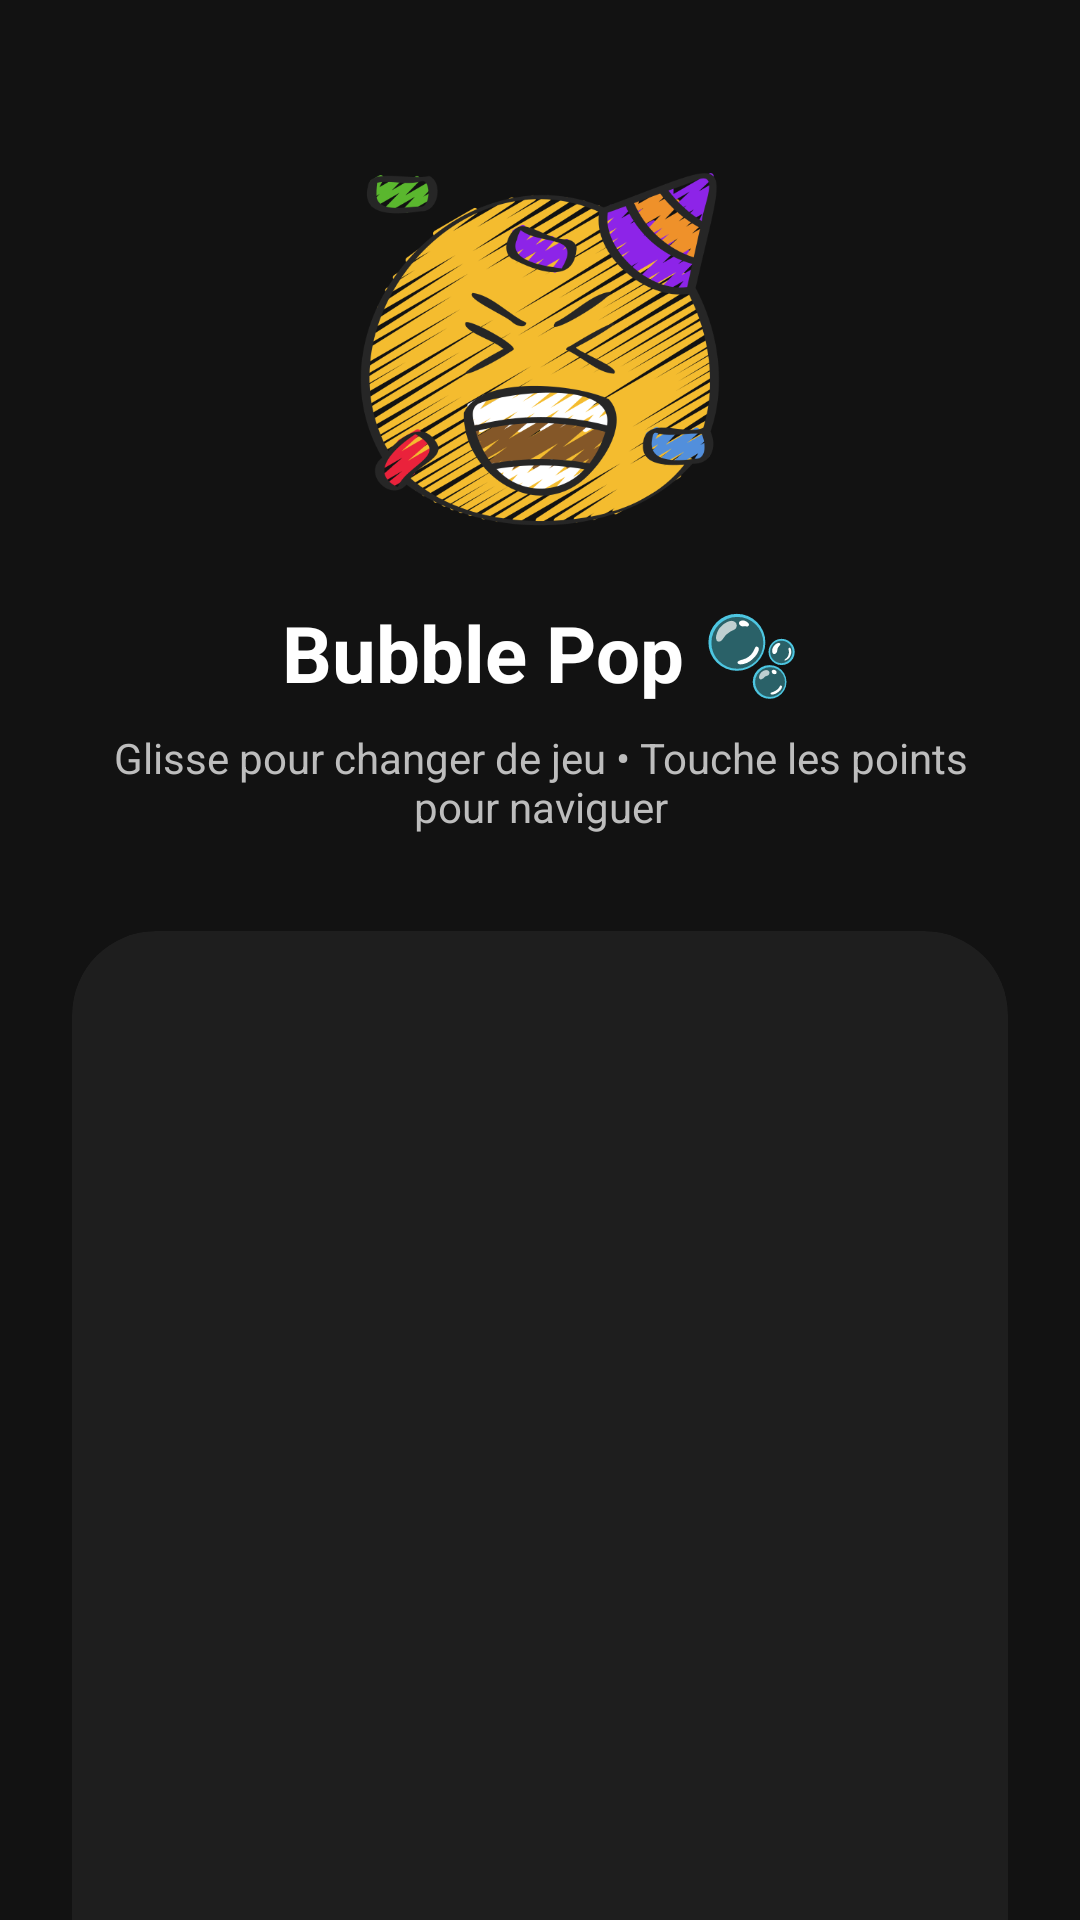

Screen size 1080px x 1920px. Icon name, then its center in pixels as (x,y):
Amusement et détente: (541,348)
